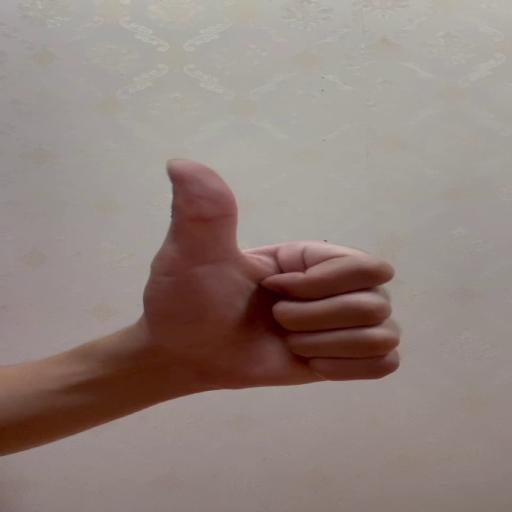thumbs_up: (144, 156, 404, 388)
